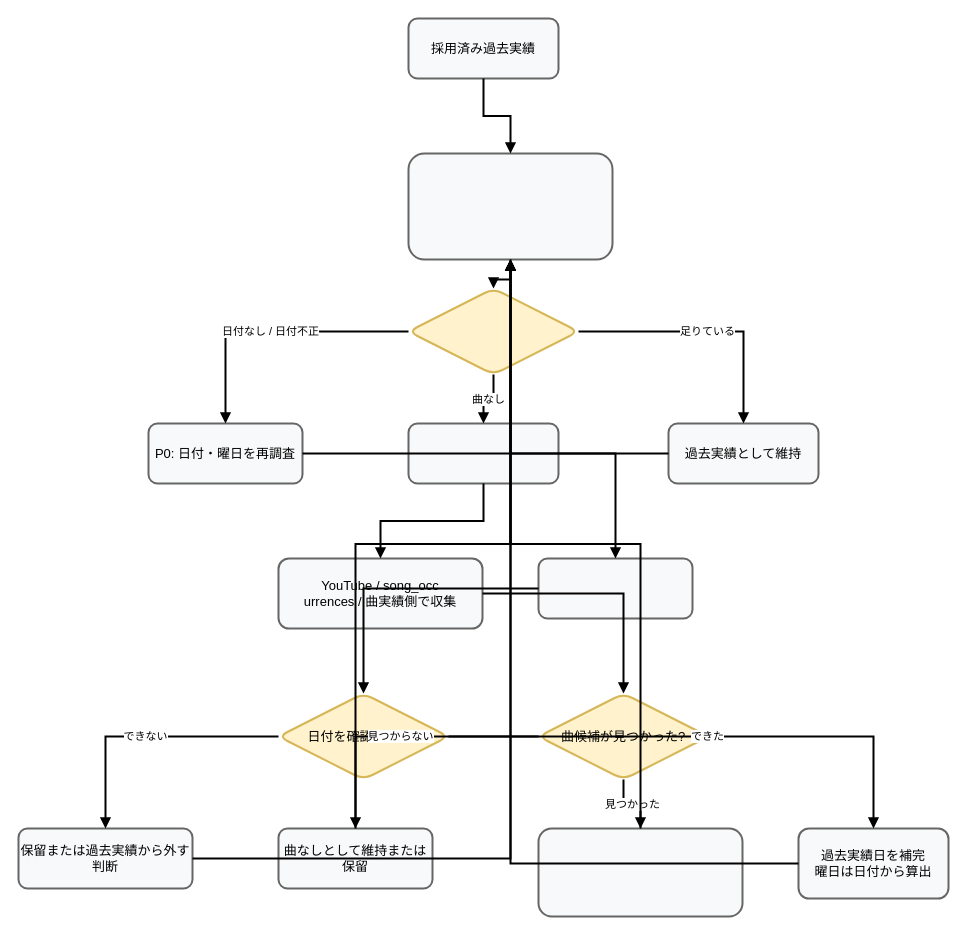
Image size: 966x934. Some labels were removed from this diagram. The box of each missing label's shape, as (x1, y1, x2, y2) in pixels:
P1: 曲候補を再調査: (407, 422, 559, 484)
品質レビュー生成 build_historical_r eference_quality_r eview.py: (407, 152, 613, 260)
日付・曜日・曲は足りている?: (407, 287, 579, 375)
曲候補を追加 公開export時に曲ヒントとして利 用: (537, 827, 743, 917)
根拠URLや過去資料を確認: (537, 557, 693, 619)
